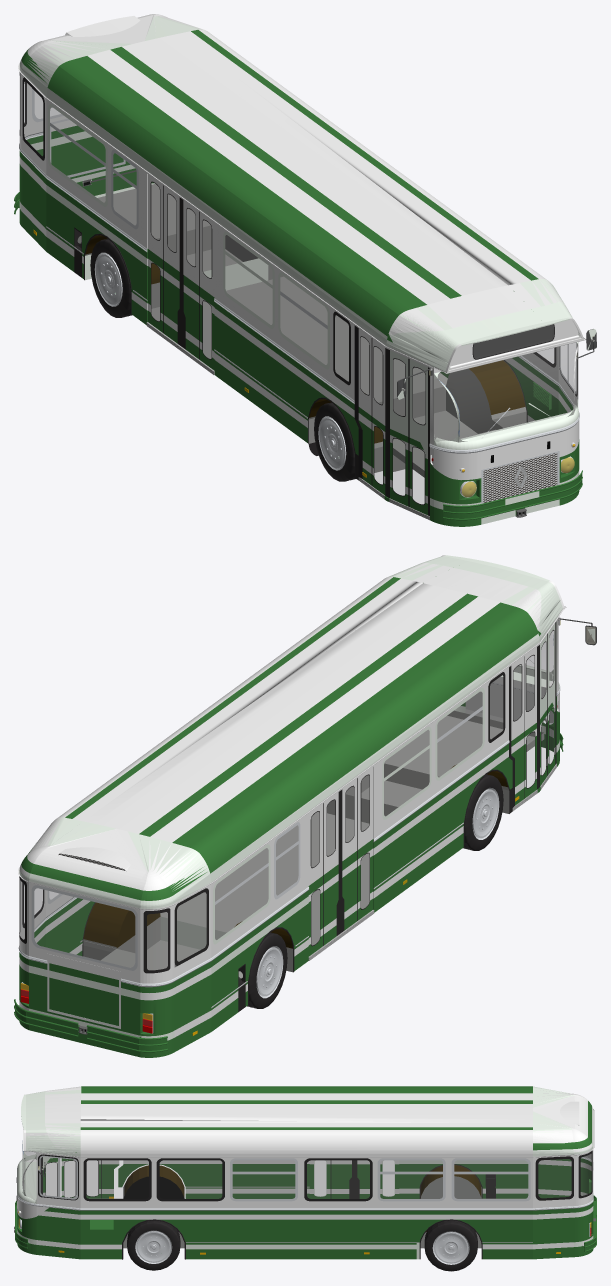
Rendered from saviem_sc_10_renault.glb.
The picture shows the model from 3 angles, top to bottom: view 1: azimuth 30°, elevation 25°; view 2: azimuth 150°, elevation 25°; view 3: azimuth 270°, elevation 25°; orthographic projection. The views are drawn at different scales.
Visible parts, largest first — view 1: Object_25, Object_27, Object_17, Object_30, Object_38, Object_19, Object_35, Object_7, Object_29, Object_33, Object_4, Object_20 (+3 smaller); view 2: Object_25, Object_27, Object_17, Object_30, Object_38, Object_19, Object_35, Object_7, Object_33, Object_20, Object_21, Object_37; view 3: Object_25, Object_27, Object_17, Object_30, Object_35, Object_19, Object_34, Object_22, Object_23, Object_38, Object_7, Object_4 (+1 smaller).
Boxes of the visible parts, x1,y1,x2,y2 form: Object_25: (18,14,586,503); Object_27: (14,30,582,526); Object_17: (24,82,577,503); Object_30: (19,16,596,524); Object_38: (77,184,527,487); Object_19: (19,72,577,515); Object_35: (19,88,579,503); Object_7: (85,235,525,443); Object_29: (483,445,557,503); Object_33: (94,252,510,470); Object_4: (84,181,554,514); Object_20: (314,402,355,481); Object_25: (18,555,566,1037); Object_27: (14,577,563,1057); Object_17: (19,631,553,969); Object_30: (19,555,594,1040); Object_38: (83,710,544,978); Object_19: (19,622,556,1011); Object_35: (18,677,560,1033); Object_7: (83,764,507,948); Object_33: (256,660,531,998); Object_20: (463,774,503,850); Object_21: (247,932,287,1008); Object_37: (465,683,534,720); Object_25: (17,1086,594,1249); Object_27: (15,1086,596,1259); Object_17: (22,1144,591,1200); Object_30: (17,1086,593,1259); Object_35: (17,1155,593,1236); Object_19: (38,1151,592,1259); Object_34: (20,1219,469,1264); Object_22: (424,1220,477,1271); Object_23: (127,1220,180,1270); Object_38: (17,1176,525,1248); Object_7: (124,1165,481,1231); Object_4: (16,1176,184,1200).
Bounding box in the file's own units: 3.02 × 2.88 × 11.08.
35 materials, 2 textured.
